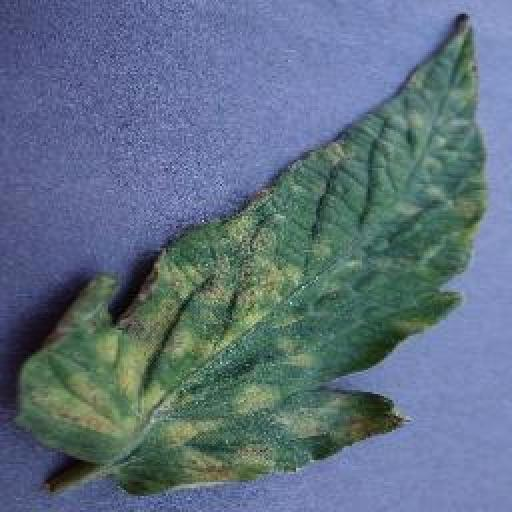disease_tomato: (20, 16, 486, 494)
